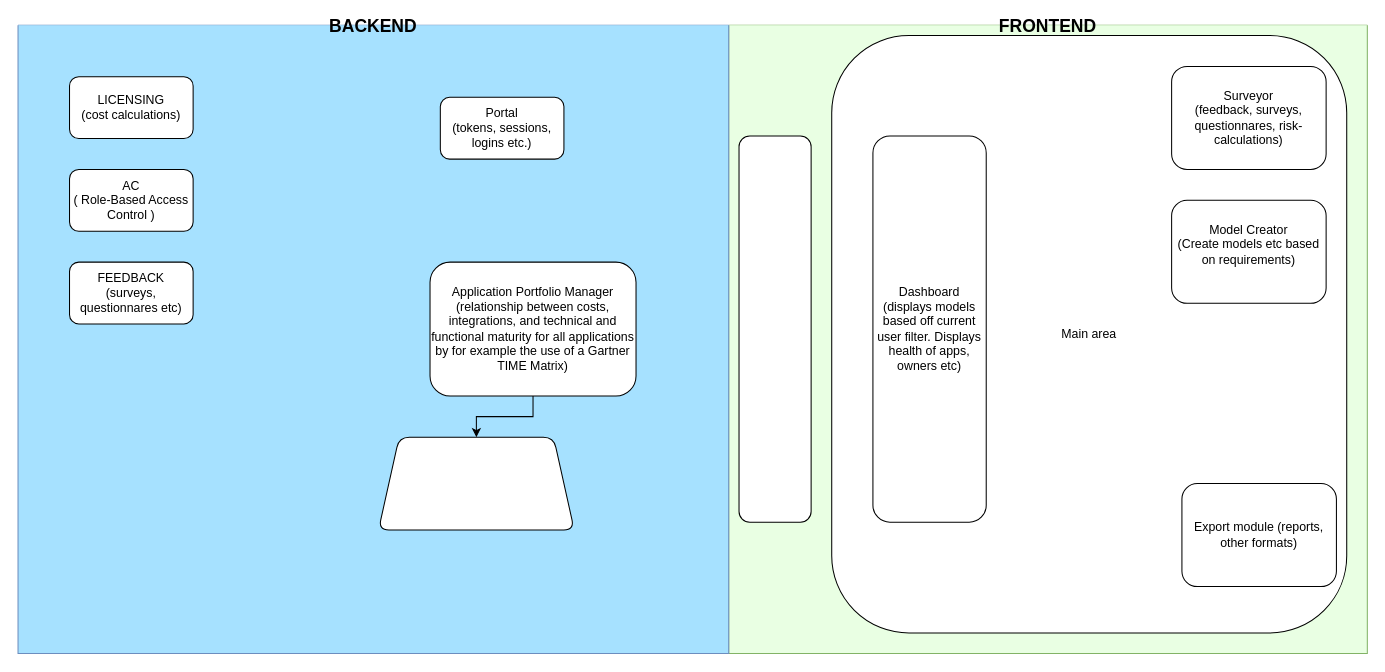
This 1385x672 diagram has some shape labels left out. The shapes that lost their labels are listed below. From the top down, each one's centre as x and y in pixels, then its label:
At point 774,328: "Login portal".
At point 475,483: "Store relationships".
